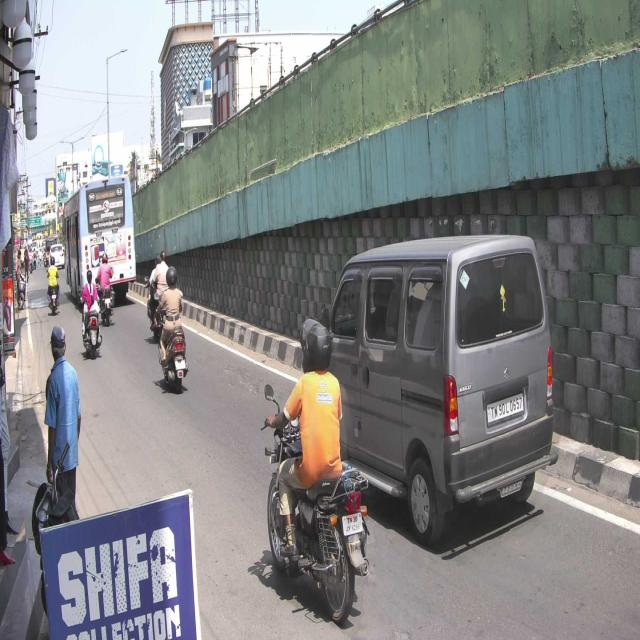single_rider: (261, 316, 371, 624)
